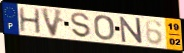6: (144, 19, 164, 47)
H: (18, 7, 42, 35)
N: (119, 16, 144, 45)
O: (93, 14, 116, 41)
S: (70, 12, 93, 40)
V: (39, 7, 65, 38)
